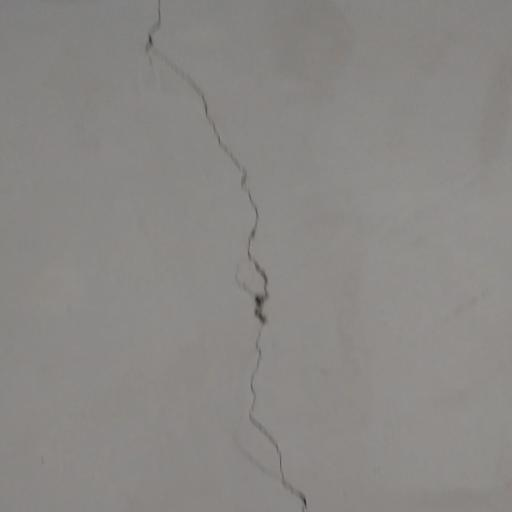minor_crack: (129, 2, 330, 512)
